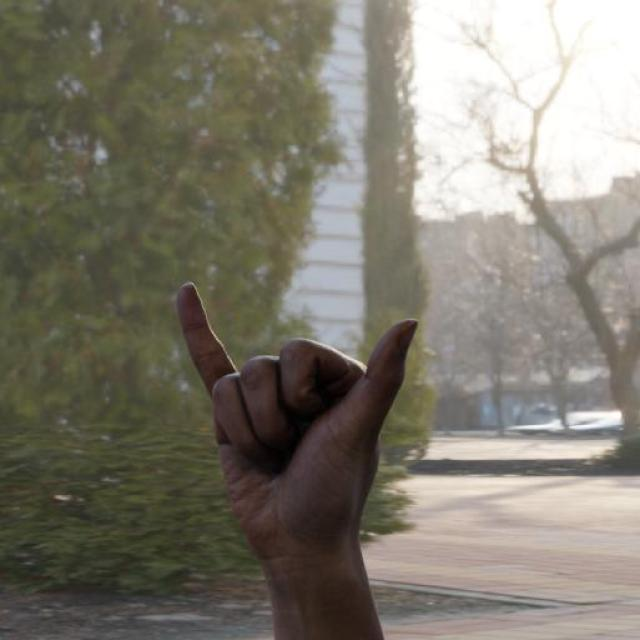Y: (170, 278, 425, 564)
